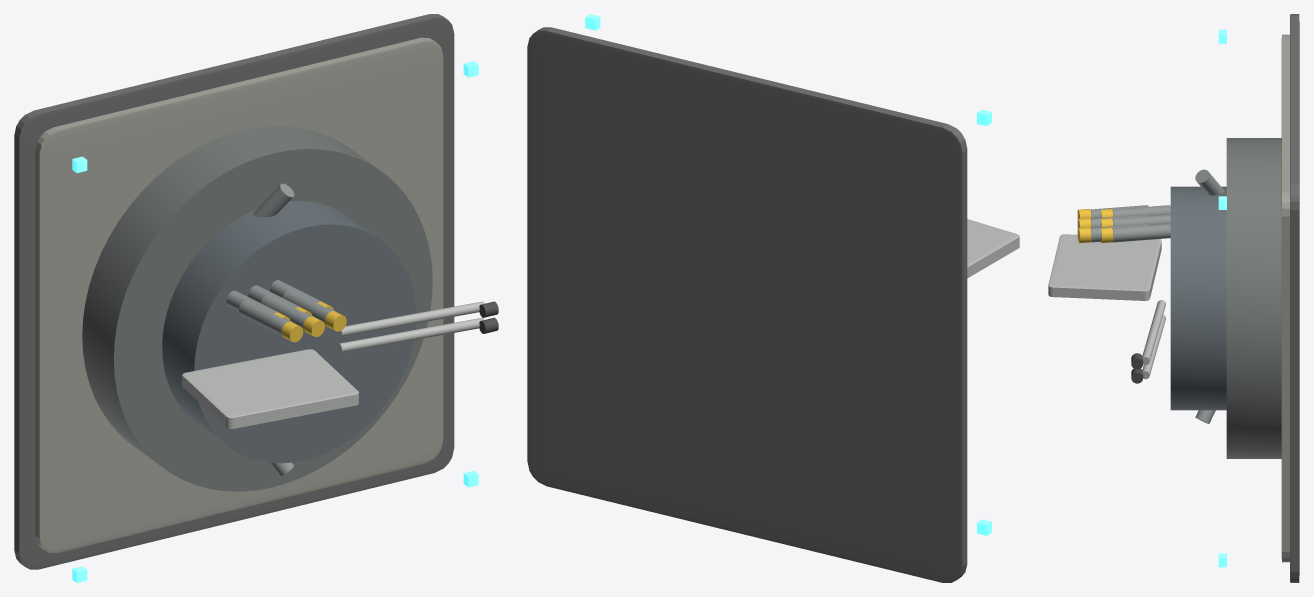
Rendered from b-33-counter-uas-lod1.glb.
3 renders of one model, left to right at view 1: azimuth 30°, elevation 25°; view 2: azimuth 150°, elevation 25°; view 3: azimuth 270°, elevation 25°, orthographic. The views are drawn at different scales.
Parts seen in each view (by area): view 1: foundation_inner_pad, turret_base, primary_turret_yaw, foundation, primary_flat_radar, cuas_gun_barrel_0, cuas_gun_barrel_1, micro_missile_3_tube, tripod_leg_1, micro_missile_5_tube, micro_missile_4_tube; view 2: foundation, primary_flat_radar; view 3: turret_base, primary_turret_yaw, primary_flat_radar, foundation, foundation_inner_pad, micro_missile_2_tube, cuas_gun_barrel_1, micro_missile_1_tube, micro_missile_0_tube, tripod_leg_1, cuas_gun_barrel_0.
Part boxes in pixels (bbox=[...]): foundation_inner_pad: bbox=[35, 37, 443, 552]; turret_base: bbox=[82, 126, 432, 491]; primary_turret_yaw: bbox=[162, 201, 416, 463]; foundation: bbox=[14, 14, 454, 569]; primary_flat_radar: bbox=[182, 349, 358, 428]; cuas_gun_barrel_0: bbox=[338, 317, 484, 353]; cuas_gun_barrel_1: bbox=[338, 301, 484, 337]; micro_missile_3_tube: bbox=[239, 300, 293, 334]; tripod_leg_1: bbox=[253, 183, 294, 217]; micro_missile_5_tube: bbox=[282, 289, 336, 324]; micro_missile_4_tube: bbox=[261, 294, 314, 329]; foundation: bbox=[527, 27, 967, 582]; primary_flat_radar: bbox=[967, 219, 1019, 278]; turret_base: bbox=[1226, 138, 1281, 458]; primary_turret_yaw: bbox=[1170, 186, 1226, 410]; primary_flat_radar: bbox=[1048, 234, 1161, 300]; foundation: bbox=[1290, 14, 1299, 582]; foundation_inner_pad: bbox=[1281, 34, 1289, 562]; micro_missile_2_tube: bbox=[1112, 223, 1170, 242]; cuas_gun_barrel_1: bbox=[1142, 300, 1165, 364]; micro_missile_1_tube: bbox=[1112, 214, 1170, 226]; micro_missile_0_tube: bbox=[1112, 205, 1170, 216]; tripod_leg_1: bbox=[1195, 169, 1224, 195]; cuas_gun_barrel_0: bbox=[1142, 314, 1165, 379].
Size of what is drawn, in the model's own units: 9 by 9 by 5.16.
